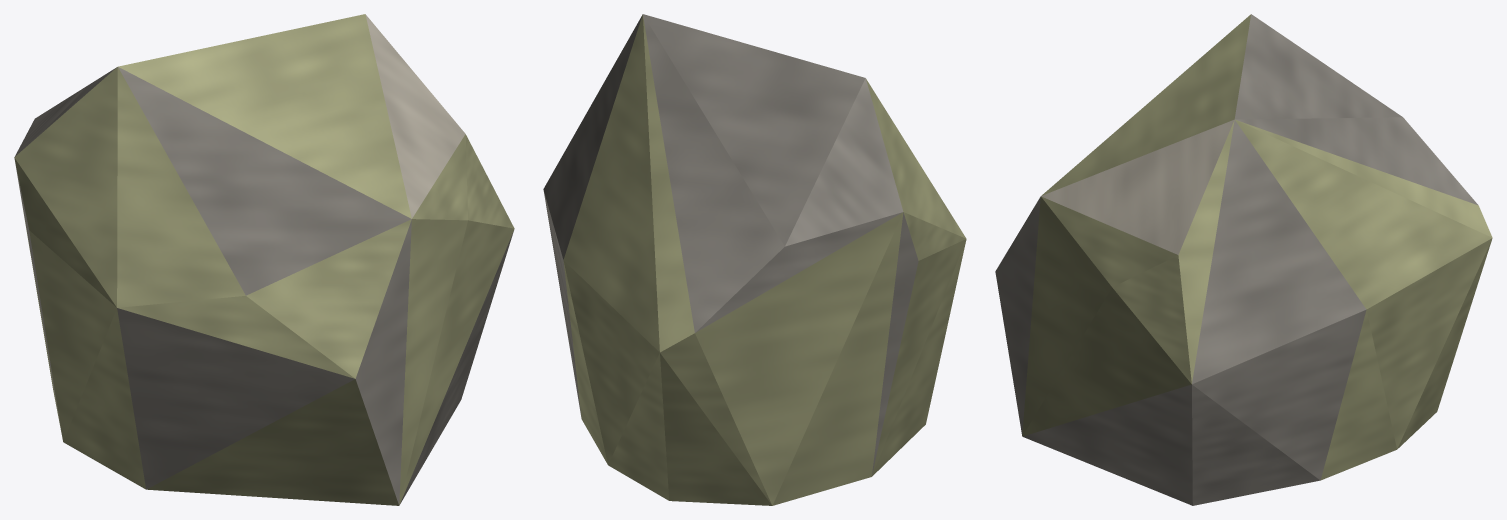
The model's file is rock_small_05.fbx.
3 views of the same model, side by side, from view 1: azimuth 30°, elevation 25°; view 2: azimuth 150°, elevation 25°; view 3: azimuth 270°, elevation 25° (orthographic). The views are drawn at different scales.
Visible parts, largest first — view 1: rock_small_05; view 2: rock_small_05; view 3: rock_small_05.
Boxes of the visible parts, x1,y1,x2,y2 form: rock_small_05: (14, 14, 514, 505); rock_small_05: (543, 14, 966, 505); rock_small_05: (995, 14, 1492, 505).
Bounding box in the file's own units: 0.5775 × 0.4897 × 0.6237.
